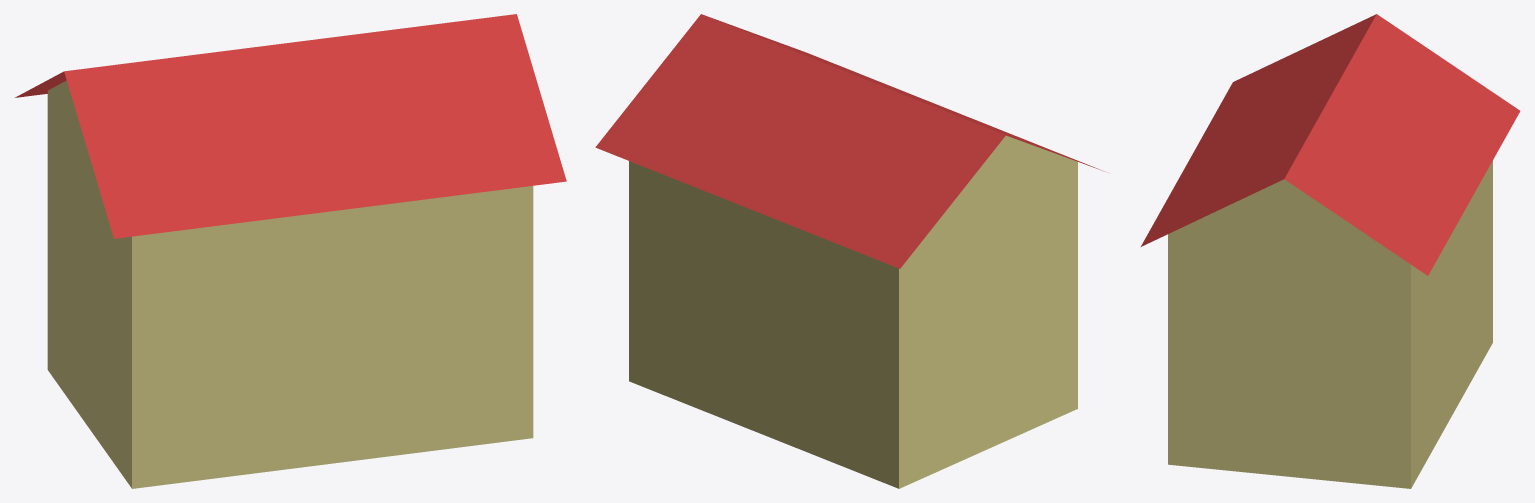
3 views of the same model, side by side, from view 1: azimuth 30°, elevation 25°; view 2: azimuth 150°, elevation 25°; view 3: azimuth 270°, elevation 25° (orthographic). The views are drawn at different scales.
Parts seen in each view (by area): view 1: group_5, group_3, group_4; view 2: group_5, group_3, group_4; view 3: group_5, group_3, group_4.
Part boxes in pixels (x1,y1,x2,y2): group_5: (47,80,533,488); group_3: (15,17,533,231); group_4: (15,14,566,238); group_5: (629,135,1077,488); group_3: (629,14,1073,268); group_4: (595,14,1107,268); group_5: (1168,160,1492,488); group_3: (1168,14,1519,251); group_4: (1141,14,1520,275).
Size of the model in its own units: 20.03 by 16.6 by 14.79.
